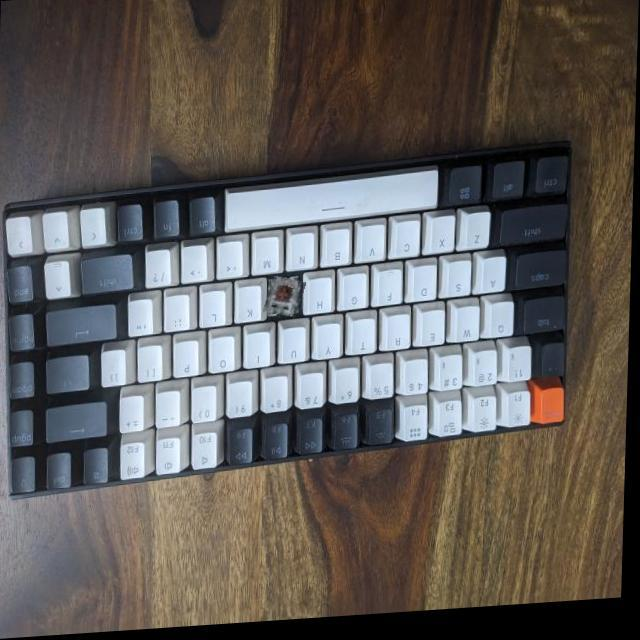key-switch: (266, 279, 305, 321)
